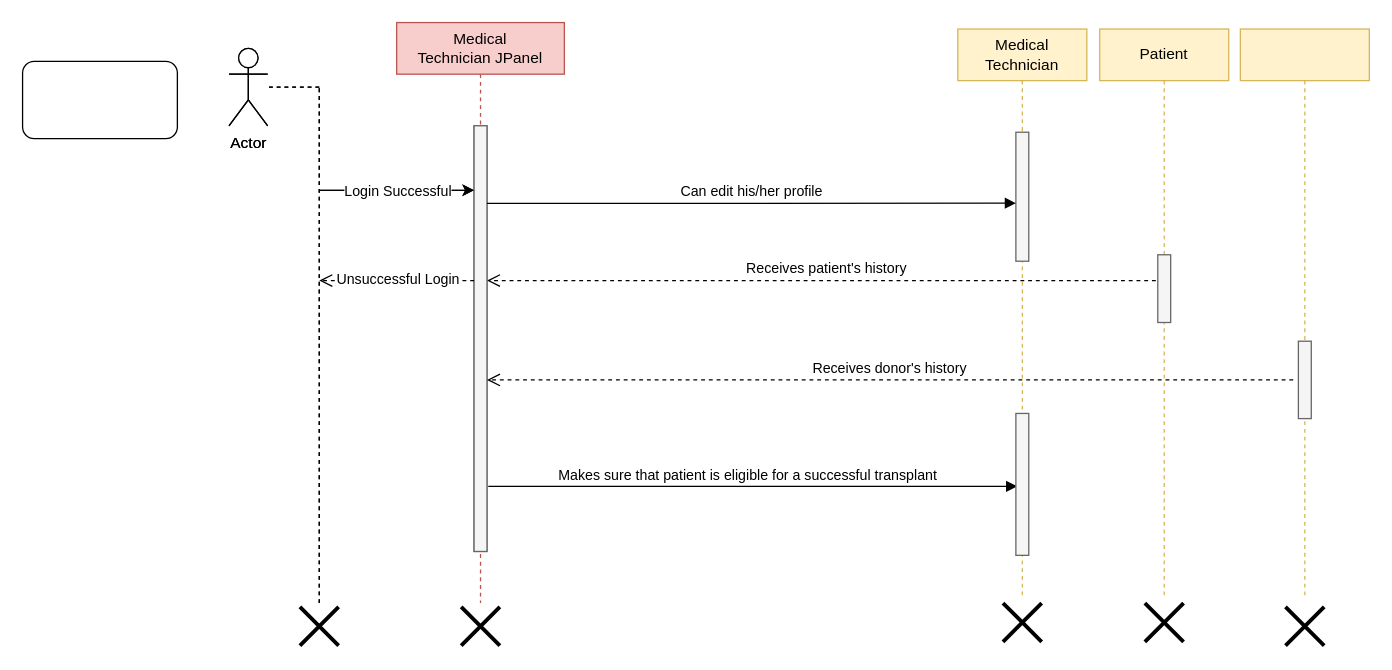
Image size: 1392x670. Some labels were removed from this diagram. Each missing label, with the centre of its shape:
"Medical Technician Role" belongs at point 99,99.
"Volunteer/Donor" belongs at point 1304,312.
